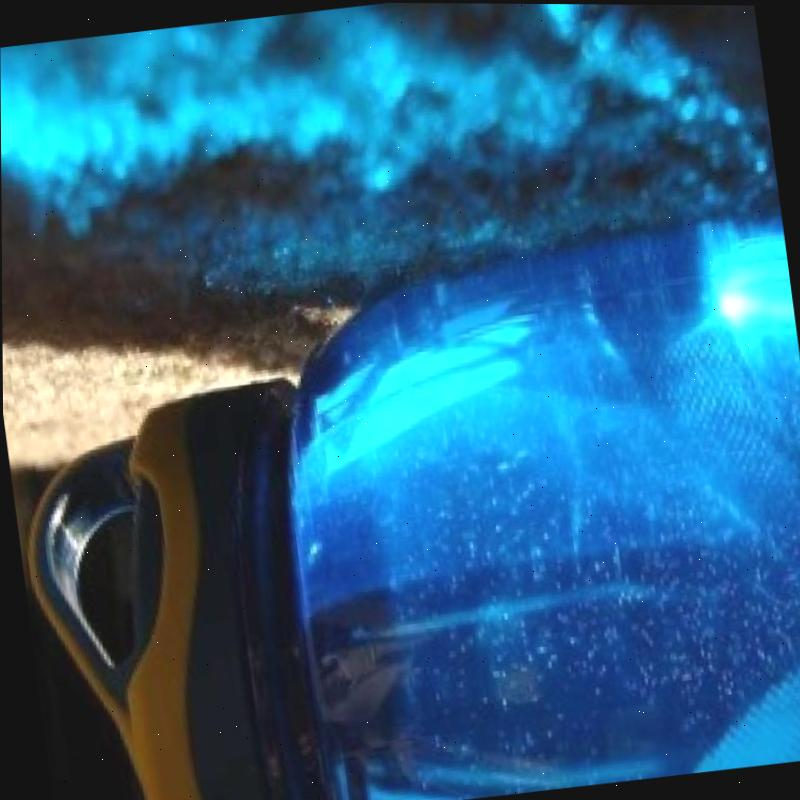botella: (248, 197, 800, 800)
